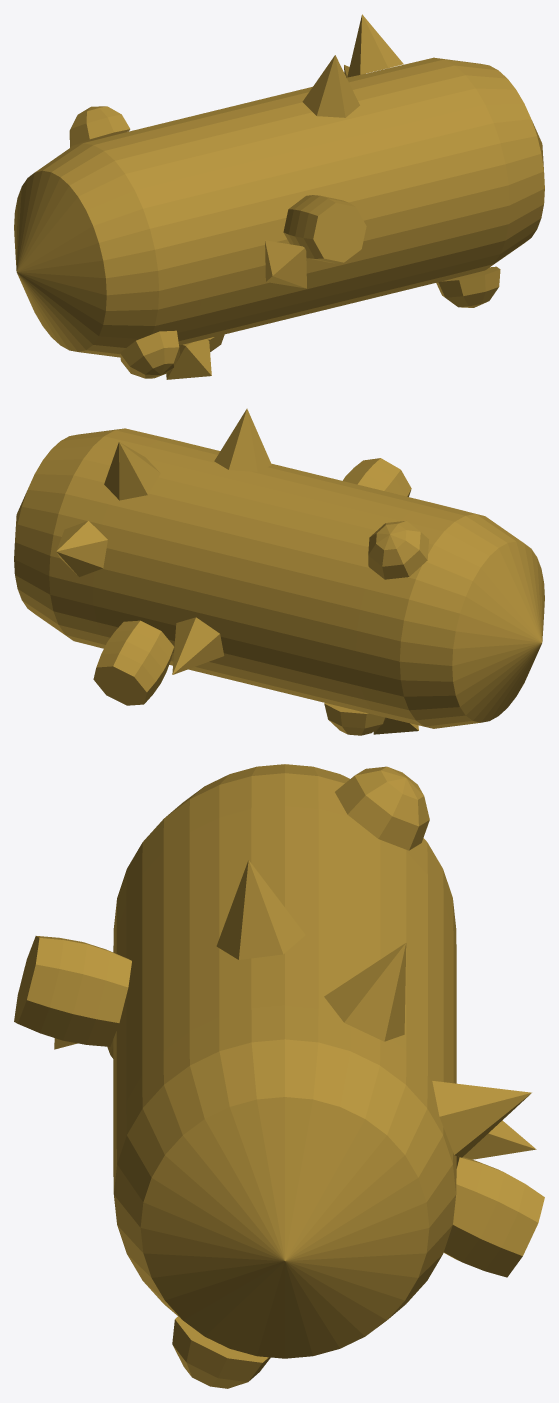
File: exp1_capsule_asym_04.glb
3 renders of one model, top to bottom at view 1: azimuth 30°, elevation 25°; view 2: azimuth 150°, elevation 25°; view 3: azimuth 270°, elevation 25°, orthographic. The views are drawn at different scales.
Parts seen in each view (by area): view 1: exp1_capsule_asym_04; view 2: exp1_capsule_asym_04; view 3: exp1_capsule_asym_04.
Part boxes in pixels (x1,y1,x2,y2): exp1_capsule_asym_04: [14, 14, 544, 379]; exp1_capsule_asym_04: [14, 408, 544, 735]; exp1_capsule_asym_04: [14, 764, 544, 1388].
Bounding box in the file's own units: 3.58 × 1.86 × 2.01.
